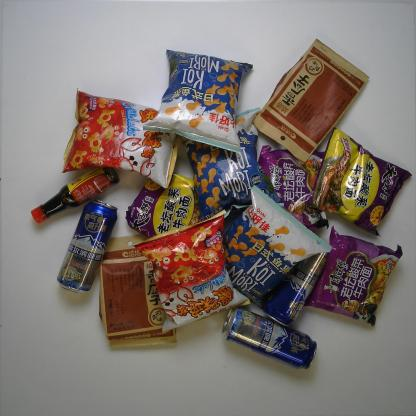Alcohol: (222, 306, 317, 371), (55, 198, 118, 294), (261, 251, 330, 326)
Dried Food: (252, 38, 370, 165), (98, 233, 178, 348)
Instant Noodles: (307, 126, 413, 237), (303, 226, 403, 327), (258, 145, 329, 231), (124, 172, 202, 238)
Puffed Food: (133, 208, 251, 334), (222, 184, 333, 309), (61, 87, 179, 190), (180, 106, 284, 222), (142, 49, 254, 154)
Seasoner: (30, 167, 120, 225)
